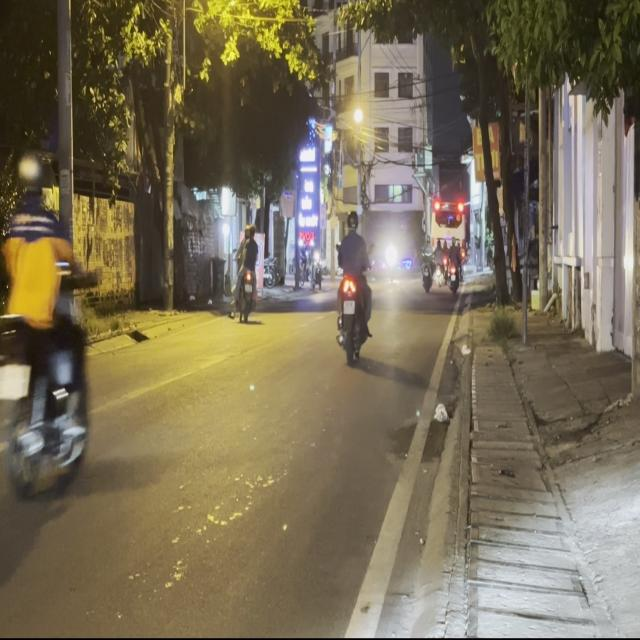helmet: (15, 151, 46, 209)
licenseplate: (0, 147, 96, 503)
nohelmet: (0, 363, 30, 397)
